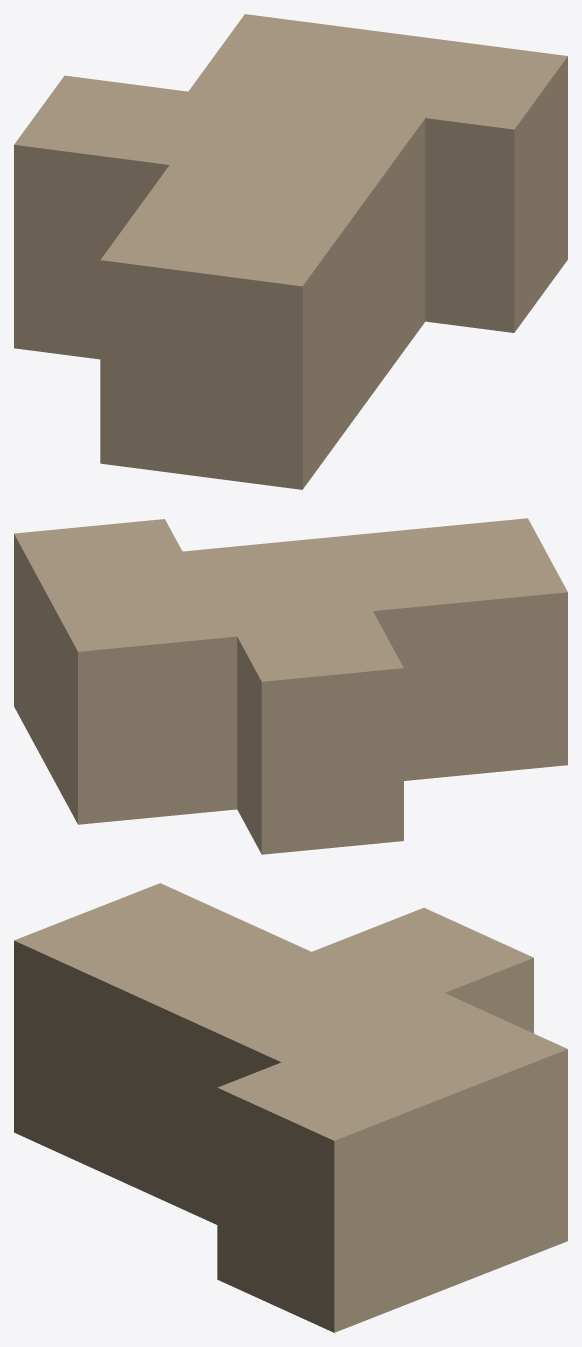
Rendered from bld_101374759.dae.
3 views of the same model, one above another, from view 1: azimuth 30°, elevation 25°; view 2: azimuth 150°, elevation 25°; view 3: azimuth 270°, elevation 25° (orthographic). The views are drawn at different scales.
Visible parts, largest first — view 1: bld_101374759; view 2: bld_101374759; view 3: bld_101374759.
Boxes of the visible parts, left/top/right/bottom form: bld_101374759: left=14, top=14, right=567, bottom=489; bld_101374759: left=14, top=518, right=567, bottom=854; bld_101374759: left=14, top=883, right=567, bottom=1332.
Bounding box in the file's own units: 23.03 × 20.92 × 8.
